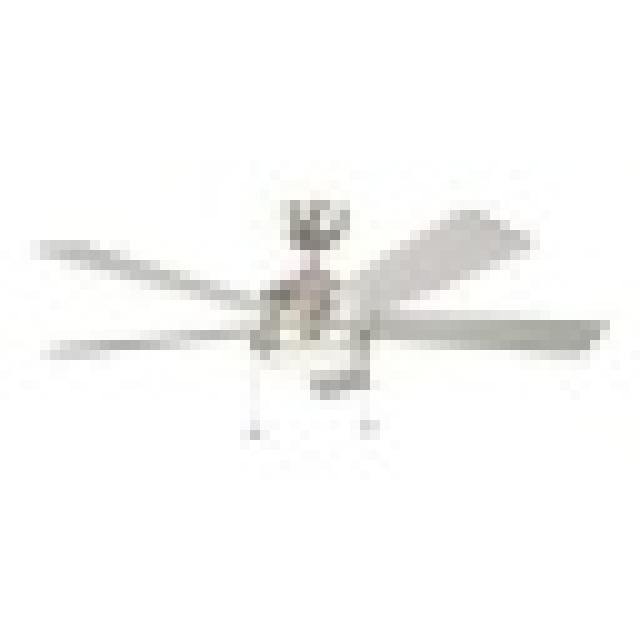Bulb: (21, 147, 605, 395)
